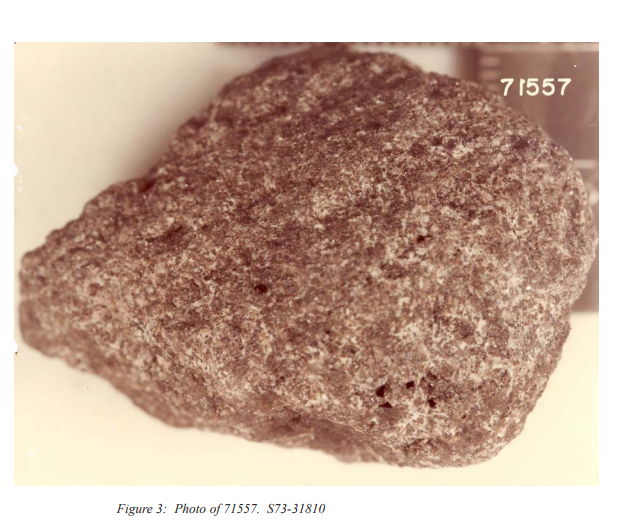Basalt: (57, 113, 583, 447), (200, 148, 478, 403)
